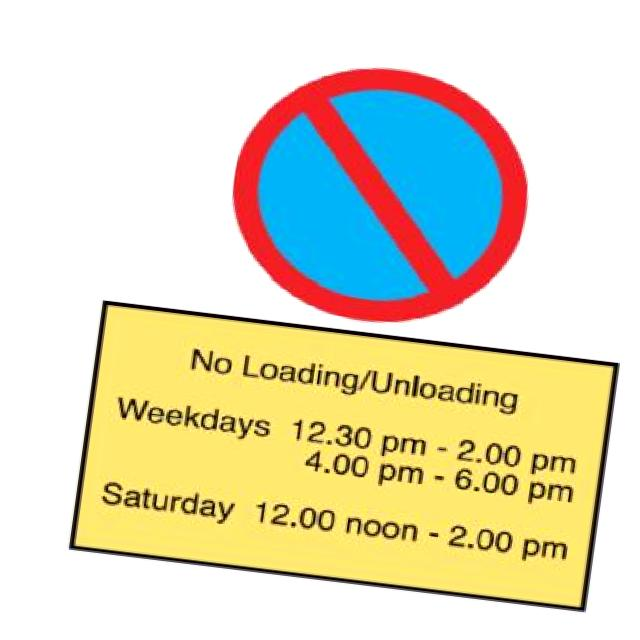forb_stopping: (235, 67, 530, 324)
